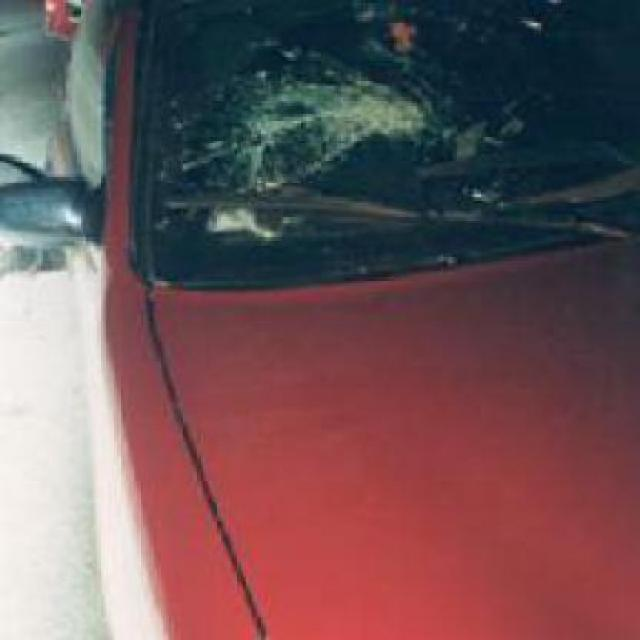damaged-windscreen: (117, 0, 637, 283)
